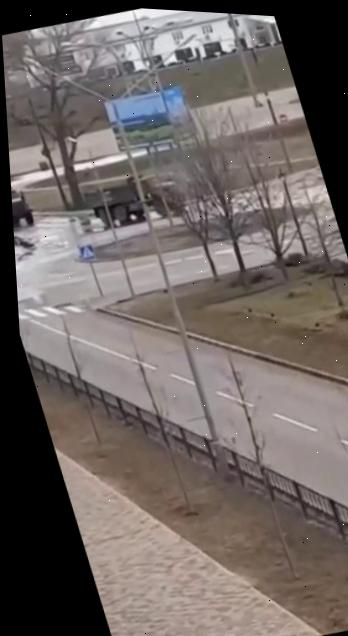truck: (76, 158, 184, 234), (11, 179, 37, 234)
